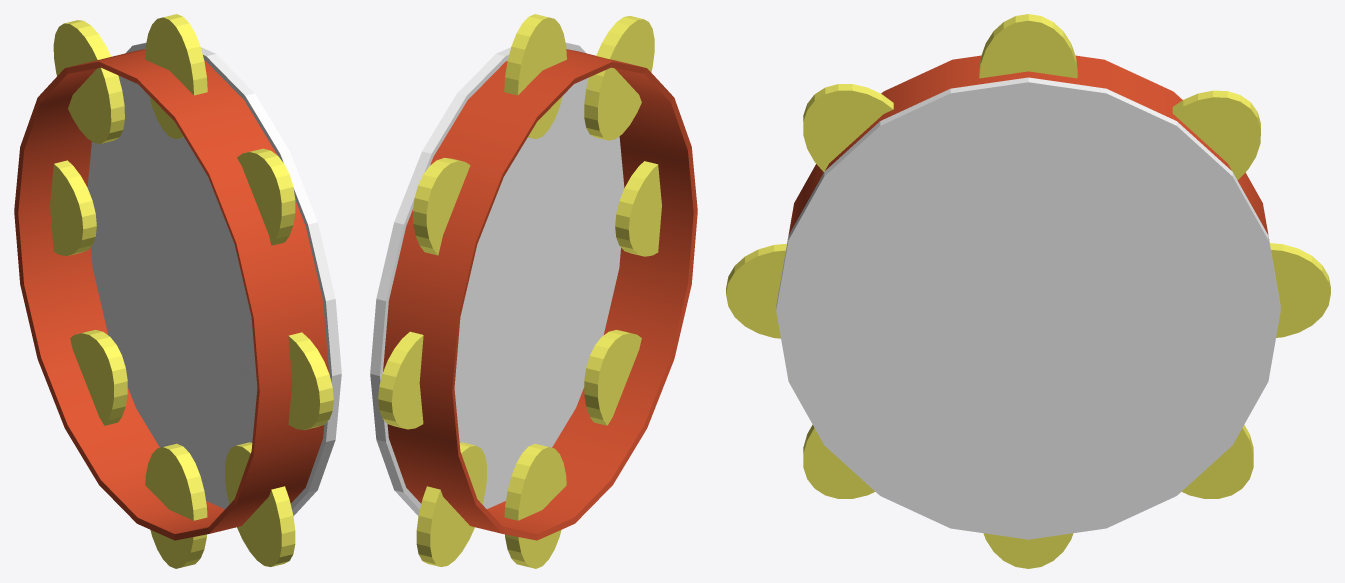
File: yueqi.fbx
3 renders of one model, left to right at view 1: azimuth 30°, elevation 25°; view 2: azimuth 150°, elevation 25°; view 3: azimuth 270°, elevation 25°, orthographic.
Parts seen in each view (by area): view 1: polySurface139, polySurface141, pDisc4; view 2: polySurface139, polySurface141, pDisc4; view 3: polySurface141, pDisc4, polySurface139.
Part boxes in pixels (x1,y1,x2,y2): polySurface139: (14,49,328,540); polySurface141: (87,42,341,515); pDisc4: (50,14,333,568); polySurface139: (383,49,697,540); polySurface141: (370,42,624,515); pDisc4: (378,14,661,568); polySurface141: (776,77,1280,539); pDisc4: (726,14,1330,568); polySurface139: (787,55,1269,239).
Size of the model in its own units: 0.3035 by 2 by 2.
